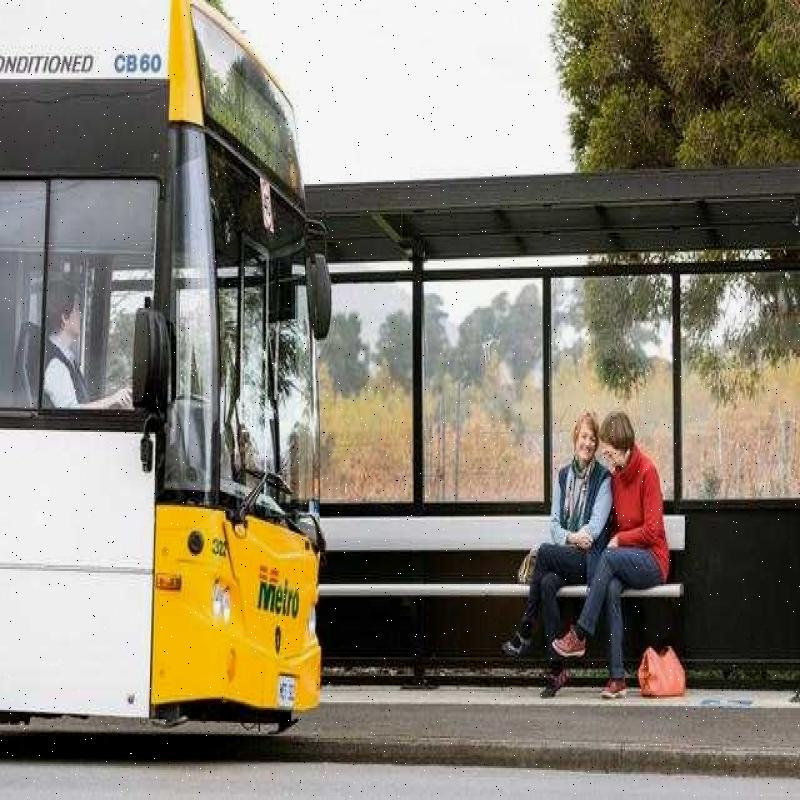bus: (9, 12, 340, 781)
